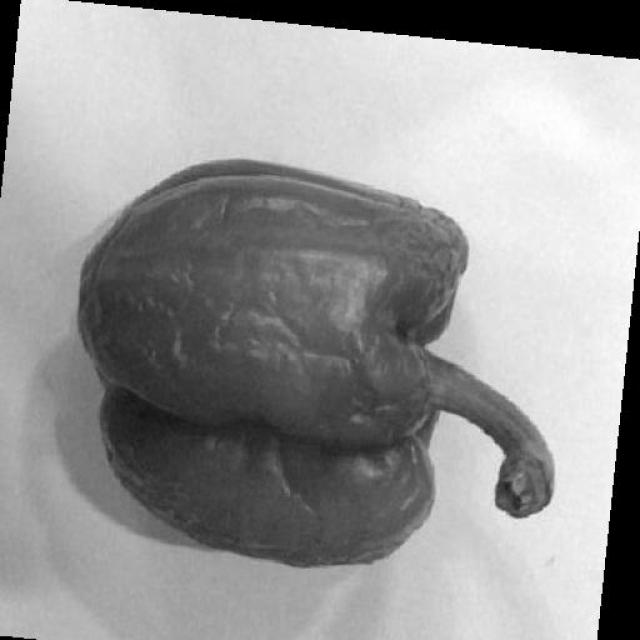Stale_Capsicum: (75, 132, 476, 576)
